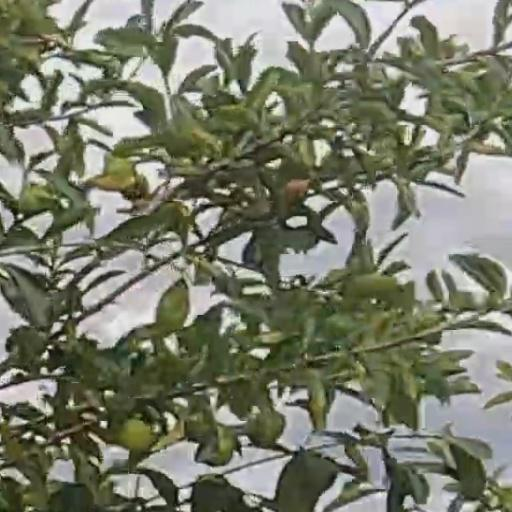acerola_verde: (122, 423, 153, 448)
